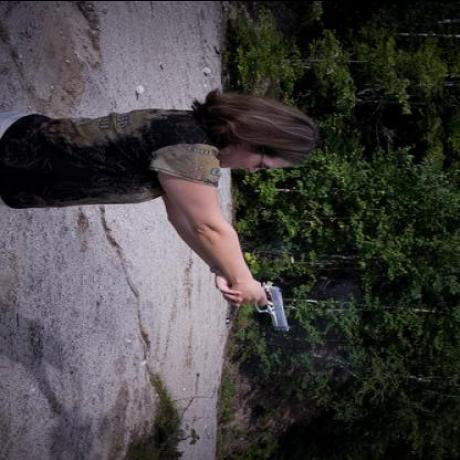1: (0, 90, 333, 284)
weapon: (244, 277, 290, 332)
